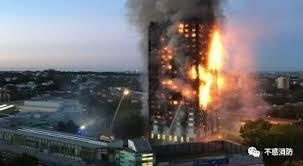fire: (190, 28, 227, 109), (162, 77, 193, 105), (159, 44, 173, 70), (176, 20, 193, 36)
